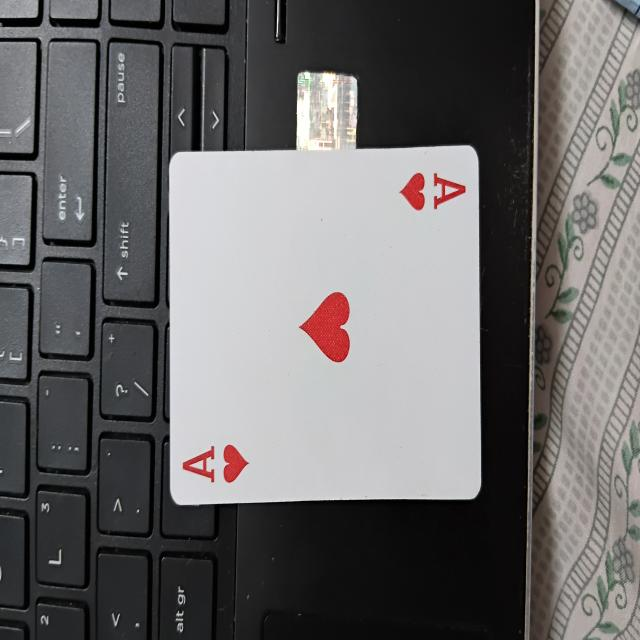AH: (169, 145, 479, 508)
